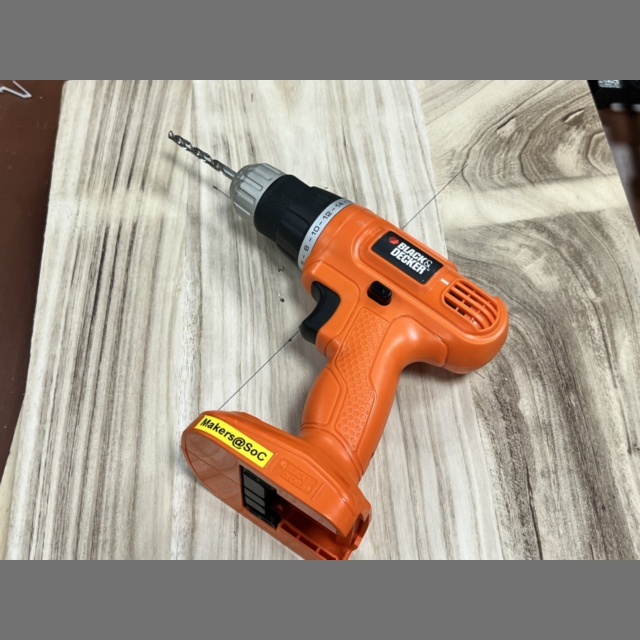drill: (170, 133, 508, 560)
